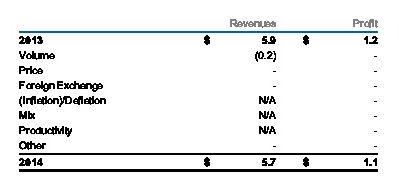table: (0, 0, 399, 185)
